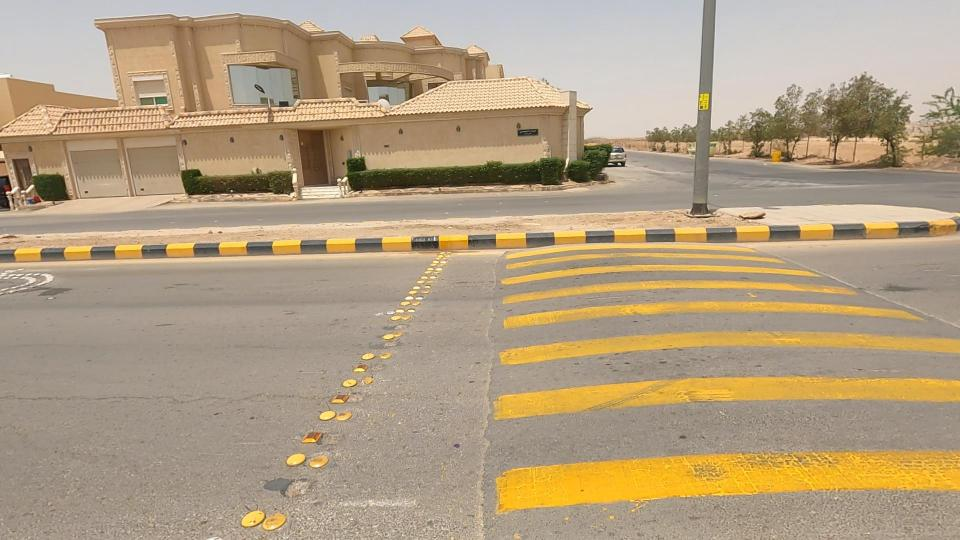CLUTTER_SIDEWALK: (9, 195, 323, 276), (268, 198, 562, 247), (523, 188, 740, 242)
